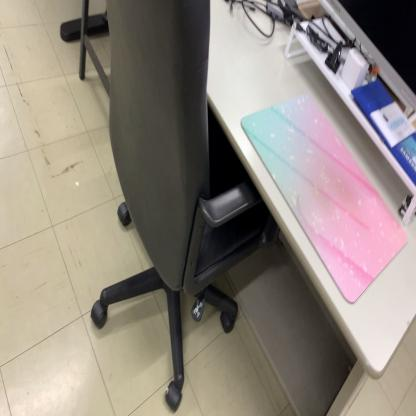chair: (88, 2, 266, 416)
